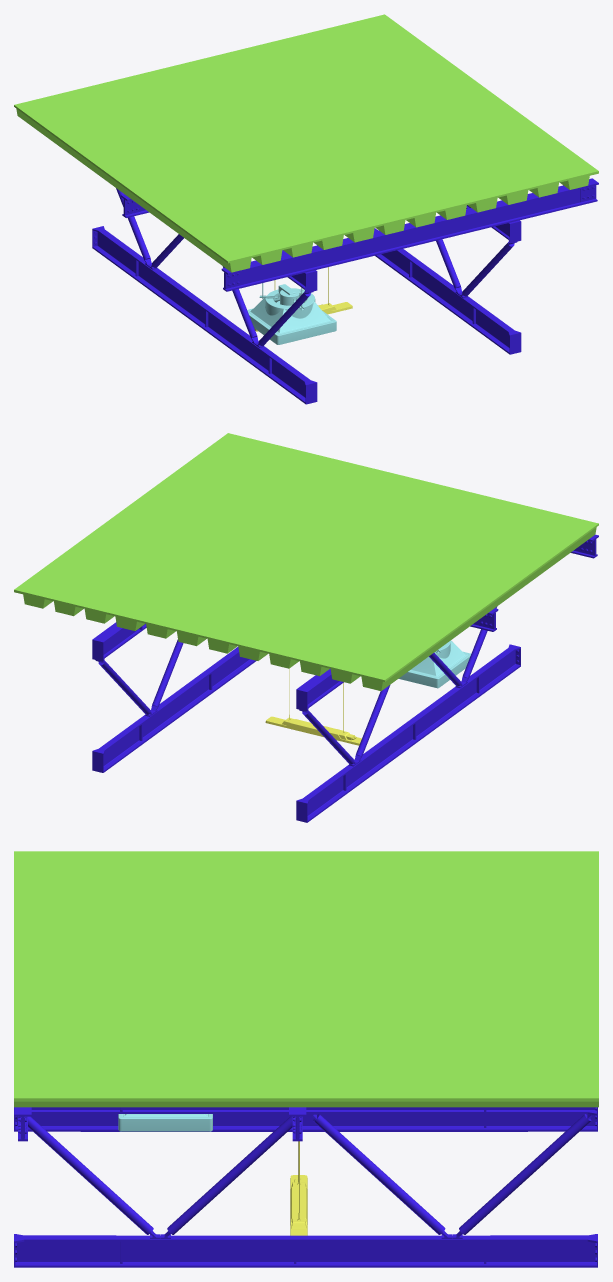
The model's file is Roof_B.glb.
3 renders of one model, top to bottom at view 1: azimuth 30°, elevation 25°; view 2: azimuth 150°, elevation 25°; view 3: azimuth 270°, elevation 25°, orthographic. The views are drawn at different scales.
Visible parts, largest first — view 1: Roof_B; view 2: Roof_B; view 3: Roof_B.
Boxes of the visible parts, bbox=[...] form: Roof_B: bbox=[14, 14, 598, 404]; Roof_B: bbox=[14, 433, 598, 822]; Roof_B: bbox=[14, 851, 598, 1267].
Bounding box in the file's own units: 10 × 4.55 × 10.
